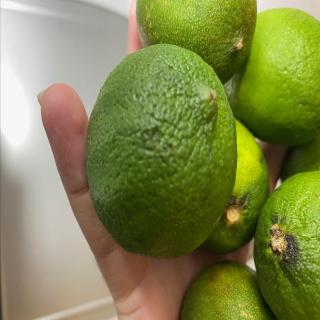Chilli: (85, 42, 238, 260), (135, 0, 257, 84)
Lemon: (224, 7, 320, 146), (253, 170, 320, 320), (202, 118, 270, 255), (180, 260, 275, 320), (280, 134, 320, 182)
